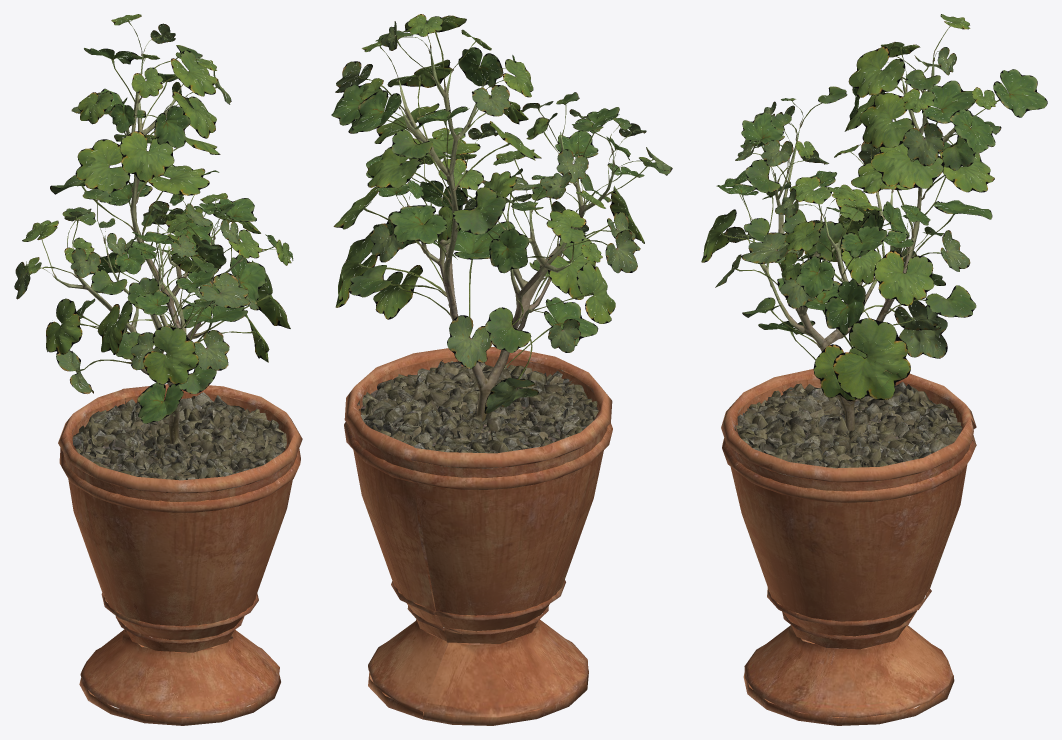
File: potted_plant_01.glb
3 renders of one model, left to right at view 1: azimuth 30°, elevation 25°; view 2: azimuth 150°, elevation 25°; view 3: azimuth 270°, elevation 25°, orthographic. The views are drawn at different scales.
Visible parts, largest first — view 1: potted_plant_01_pot, potted_plant_01_leaves, potted_plant_01_pebbles, potted_plant_01_stem; view 2: potted_plant_01_pot, potted_plant_01_leaves, potted_plant_01_pebbles, potted_plant_01_stem; view 3: potted_plant_01_pot, potted_plant_01_leaves, potted_plant_01_pebbles, potted_plant_01_stem.
Boxes of the visible parts, bbox=[...] form: potted_plant_01_pot: bbox=[58, 384, 302, 725]; potted_plant_01_leaves: bbox=[14, 14, 293, 423]; potted_plant_01_pebbles: bbox=[72, 392, 288, 493]; potted_plant_01_stem: bbox=[54, 54, 244, 443]; potted_plant_01_pot: bbox=[344, 347, 612, 725]; potted_plant_01_leaves: bbox=[331, 14, 672, 413]; potted_plant_01_pebbles: bbox=[357, 360, 598, 468]; potted_plant_01_stem: bbox=[399, 48, 613, 421]; potted_plant_01_pot: bbox=[721, 369, 976, 725]; potted_plant_01_leaves: bbox=[701, 14, 1047, 401]; potted_plant_01_pebbles: bbox=[734, 382, 962, 481]; potted_plant_01_stem: bbox=[752, 55, 967, 430].
Bounding box in the file's own units: 0.5872 × 1.34 × 0.6336.
Materials: 2 (2 with a texture image).
